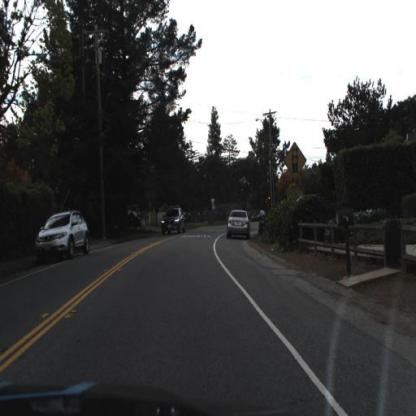car: (36, 211, 90, 262), (225, 208, 250, 242), (160, 206, 187, 237)
